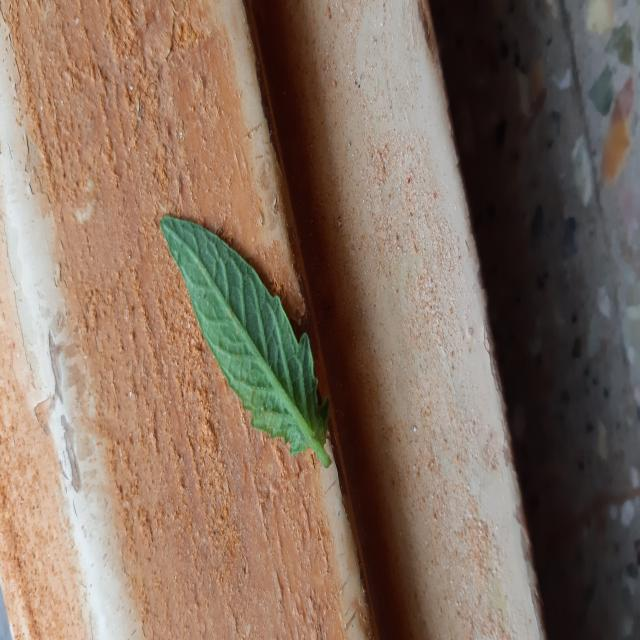tomato: (161, 216, 331, 467)
